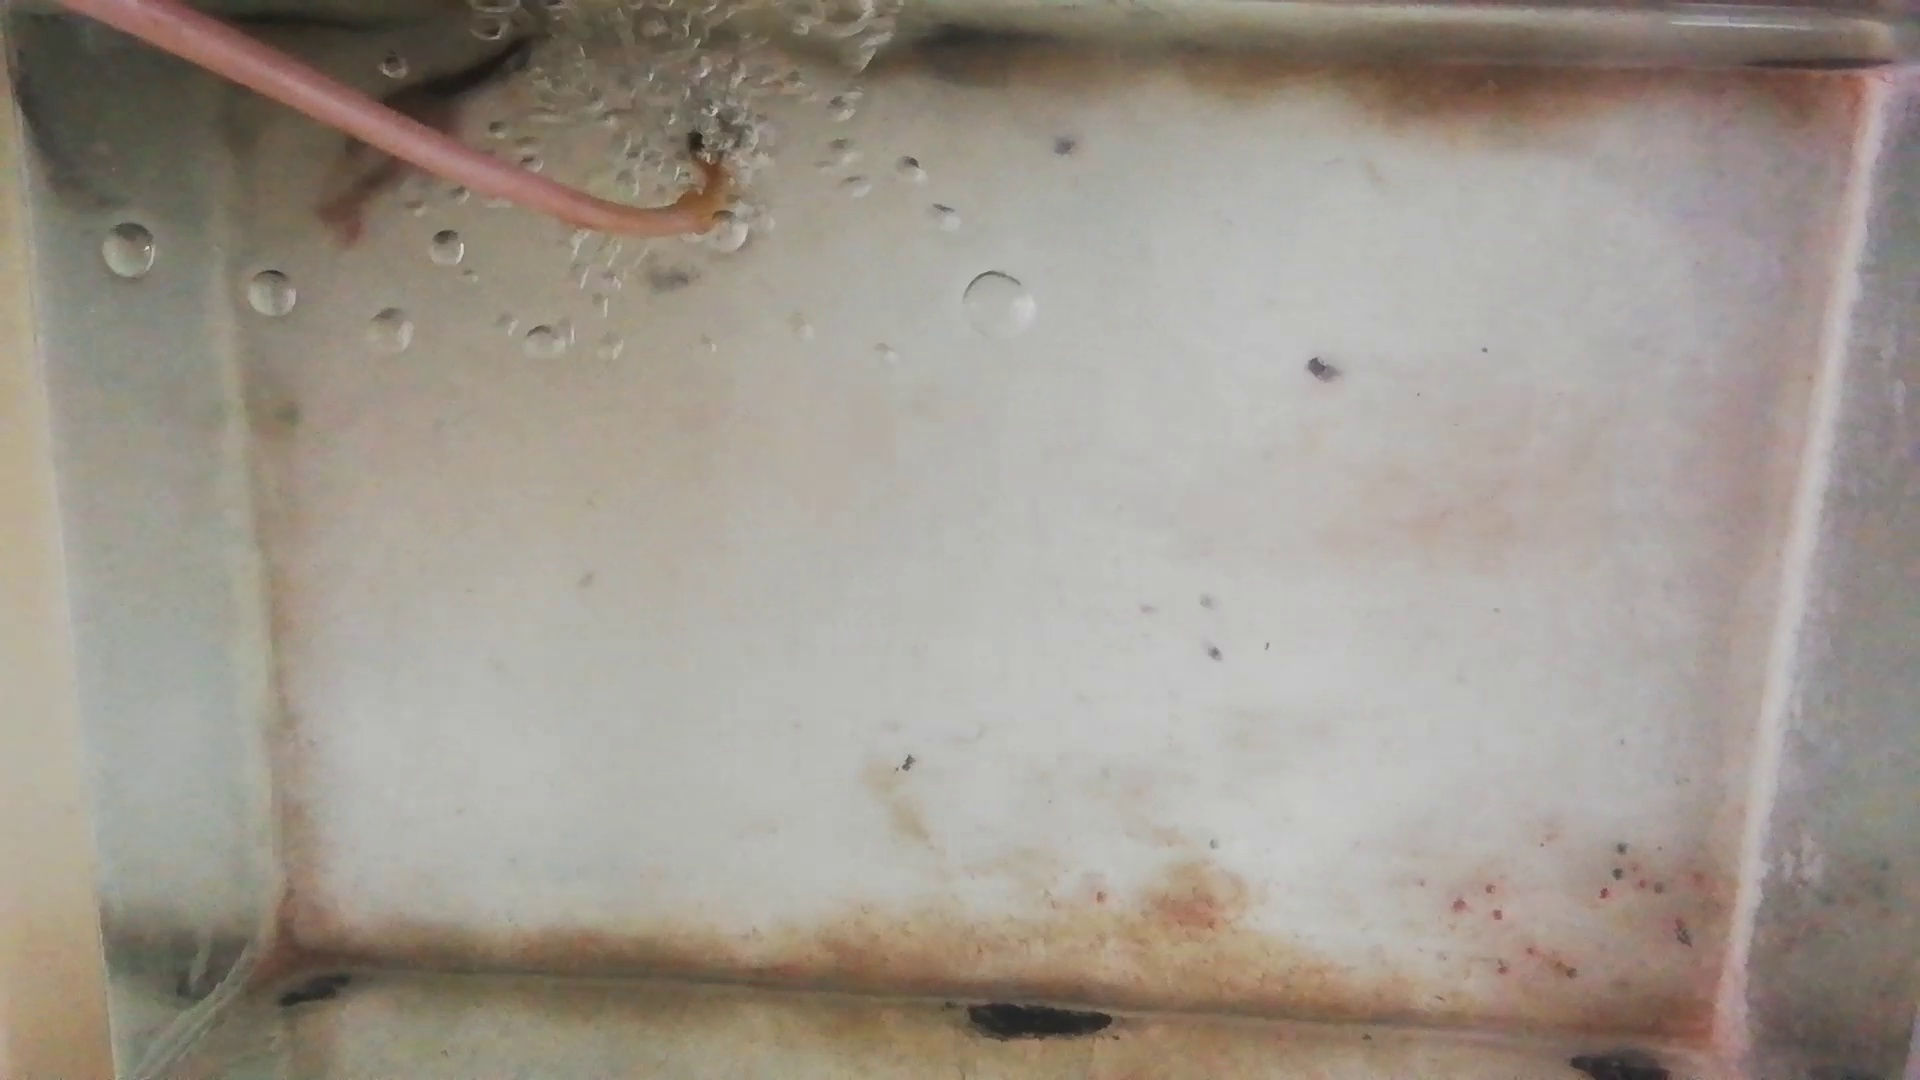fish: (396, 36, 560, 84), (305, 156, 409, 228)
